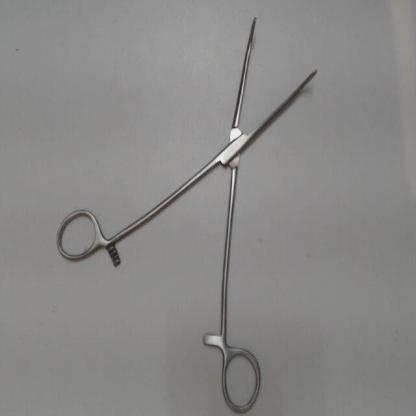Lahey Forceps: (49, 11, 328, 414)
